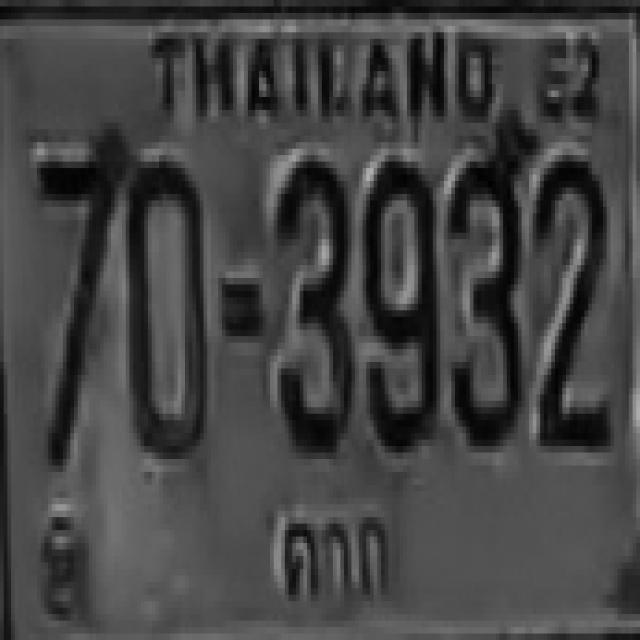0: (124, 155, 205, 453)
2: (534, 152, 605, 443)
3: (446, 129, 527, 440), (274, 152, 351, 449)
7: (31, 126, 124, 462)
9: (362, 155, 437, 446)
Tak: (268, 500, 402, 619)
